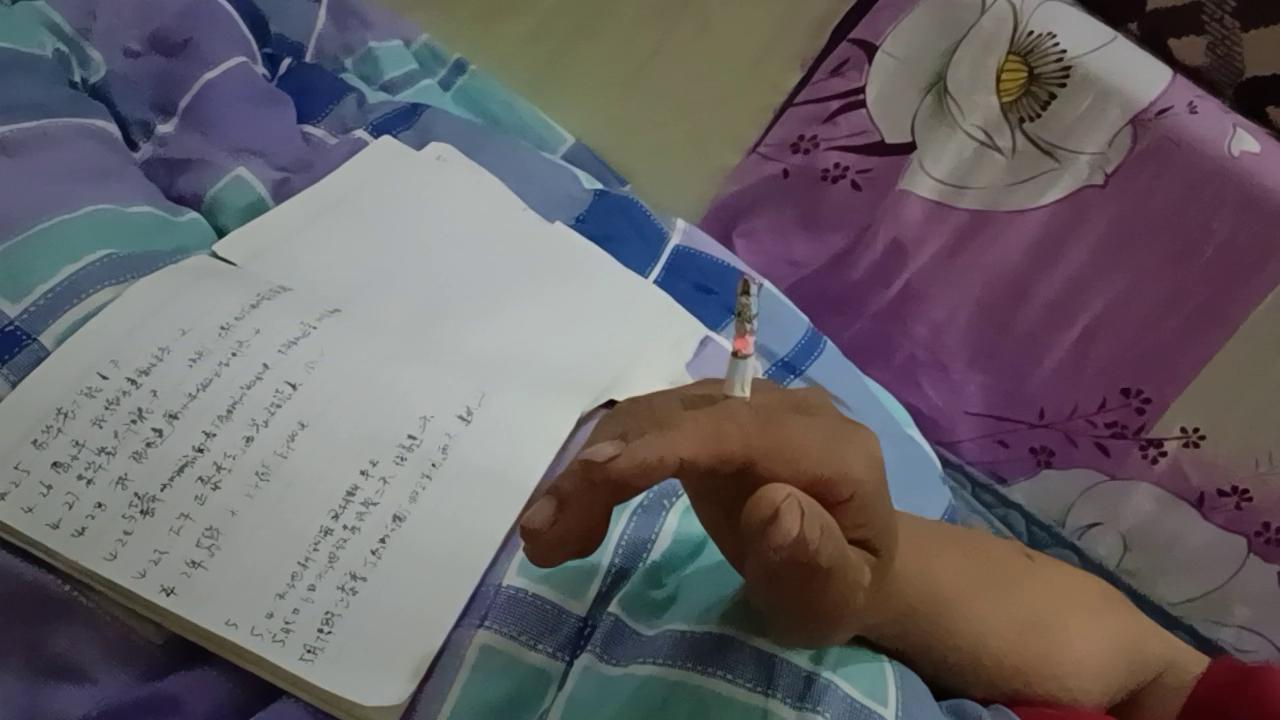smoke: (716, 278, 760, 426)
